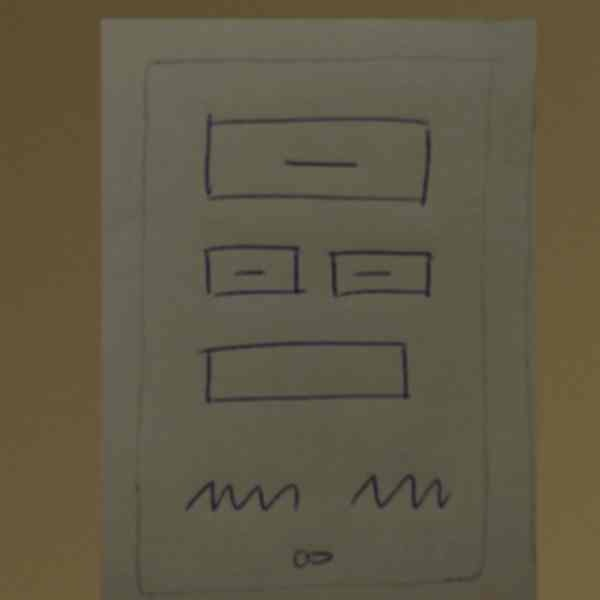button: (193, 104, 442, 216), (324, 242, 439, 307), (198, 238, 309, 303)
switch: (279, 536, 347, 577)
text: (172, 465, 311, 521), (345, 465, 456, 520)
text_input: (191, 331, 420, 413)
